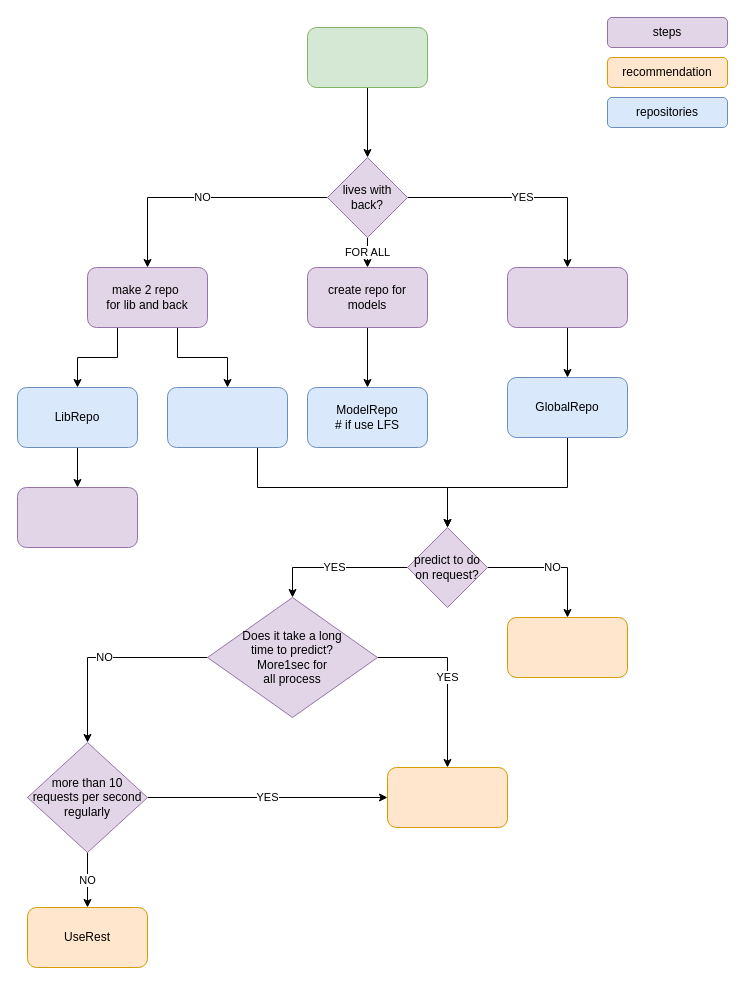
Some shapes in this 745 by 985 pixel diagram are drawn without their labels. The shapes that lost their labels are listed below. From the top down, each one's centre as x and y in pixels, then its label:
At point (367, 57): "DS Solution".
At point (567, 297): "one repo for service".
At point (227, 417): "BackRepo".
At point (77, 517): "make python package index for libs and setup file".
At point (567, 647): "UseCron".
At point (447, 797): "UseMQ".
